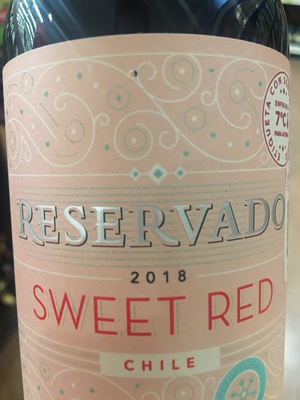reservado sweet red: (3, 2, 294, 400)
